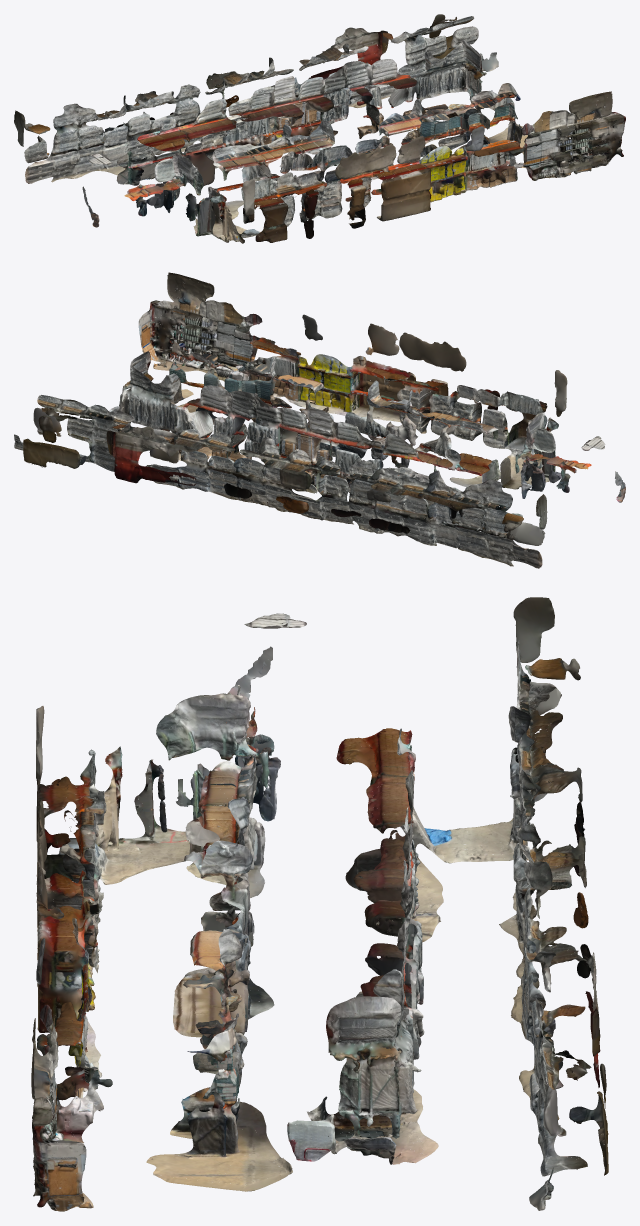
File: warehouse.glb
The picture shows the model from 3 angles, top to bottom: view 1: azimuth 30°, elevation 25°; view 2: azimuth 150°, elevation 25°; view 3: azimuth 270°, elevation 25°; orthographic projection. The views are drawn at different scales.
Visible parts, largest first — view 1: warehouse; view 2: warehouse; view 3: warehouse.
Part boxes in pixels (x1=…): warehouse: x1=14, y1=14, x2=625, y2=243; warehouse: x1=14, y1=272, x2=625, y2=568; warehouse: x1=31, y1=597, x2=608, y2=1211.
Bounding box in the file's own units: 37.68 × 5.98 × 19.41.
Materials: 4 (4 with a texture image).
